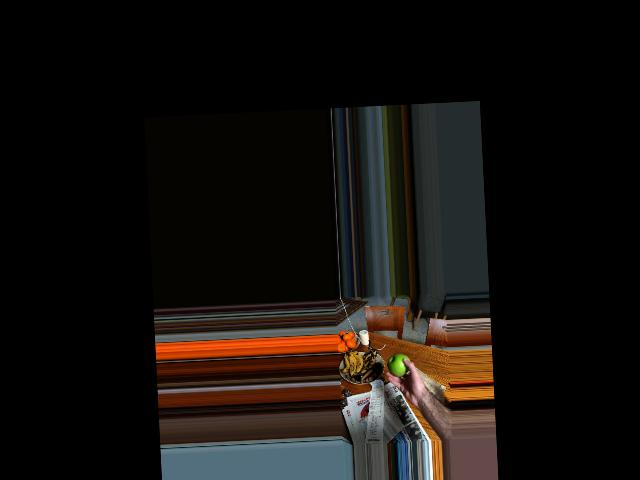apple: (387, 352, 412, 378)
